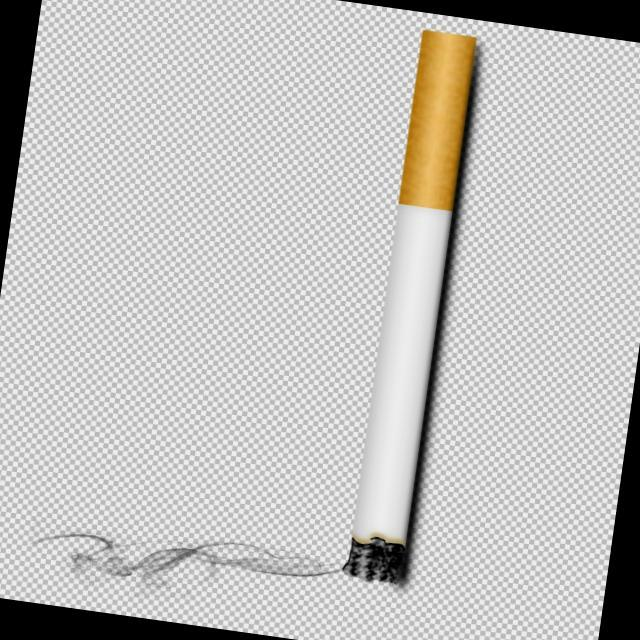cigarette: (323, 17, 492, 610)
